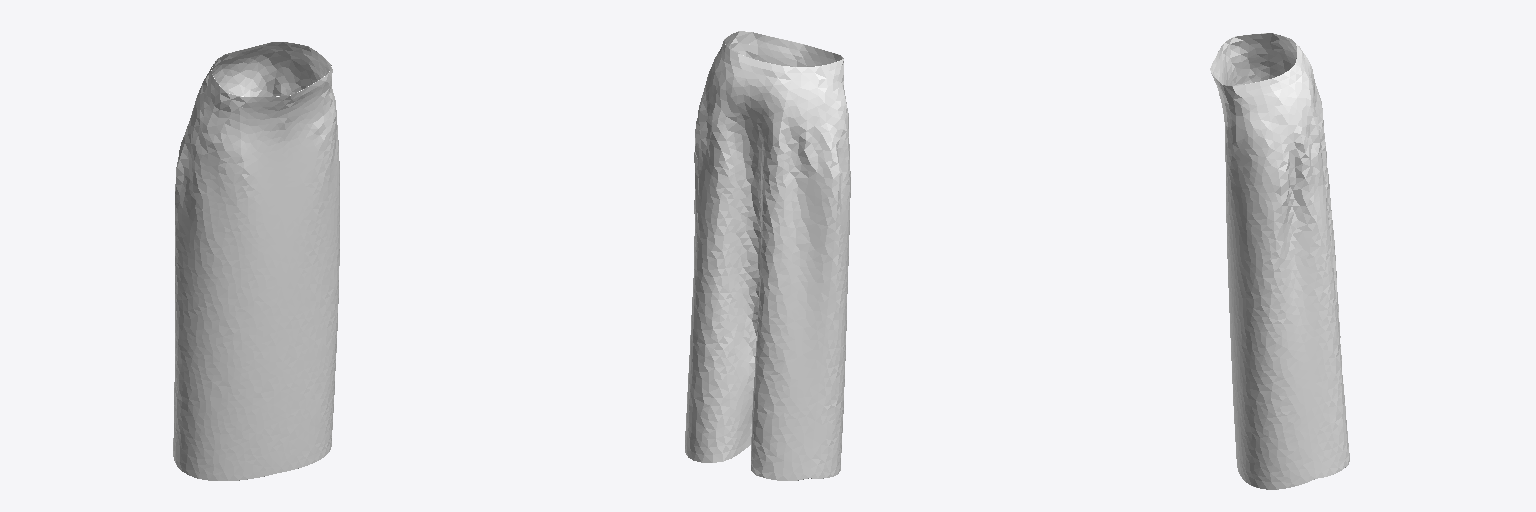
Rendered from 003a-f_Foodie002B+Skirts_Skirt.obj.
The picture shows the model from 3 angles: view 1: azimuth 30°, elevation 25°; view 2: azimuth 150°, elevation 25°; view 3: azimuth 270°, elevation 25°; orthographic projection.
Parts seen in each view (by area): view 1: 003a-f_Foodie002B+Skirts_Skirt; view 2: 003a-f_Foodie002B+Skirts_Skirt; view 3: 003a-f_Foodie002B+Skirts_Skirt.
Boxes of the visible parts, x1=… form: 003a-f_Foodie002B+Skirts_Skirt: x1=173, y1=42, x2=339, y2=480; 003a-f_Foodie002B+Skirts_Skirt: x1=685, y1=31, x2=850, y2=480; 003a-f_Foodie002B+Skirts_Skirt: x1=1210, y1=33, x2=1349, y2=489.
Size of the model in its own units: 0.3156 by 0.8057 by 0.2529.